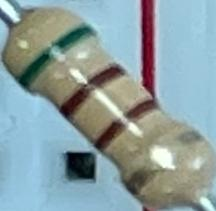Brown: (55, 59, 130, 119), (90, 94, 161, 157)
Green: (11, 21, 101, 97)
Side-Silver: (123, 126, 206, 196)
